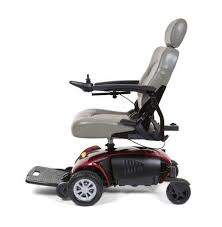wheelchair: (26, 18, 197, 206)
